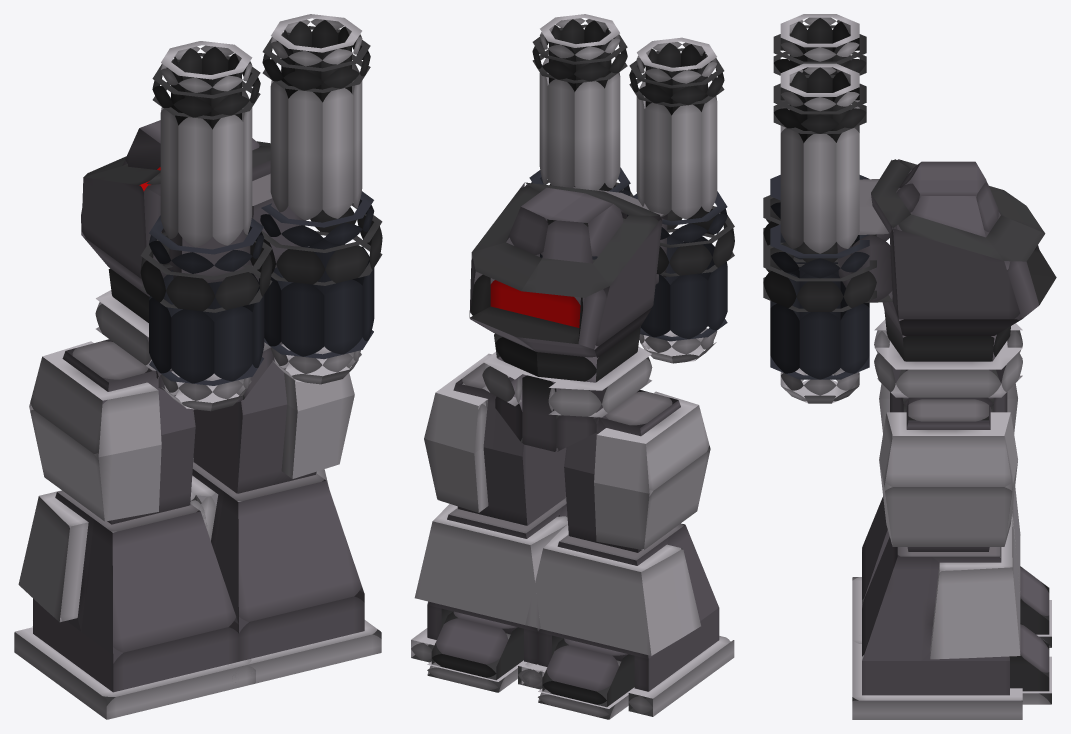
The model's file is Colossus Body.obj.
The picture shows the model from 3 angles, left to right: view 1: azimuth 30°, elevation 25°; view 2: azimuth 150°, elevation 25°; view 3: azimuth 270°, elevation 25°; orthographic projection. The views are drawn at different scales.
Visible parts, largest first — view 1: cylinder, Shin, Thigh, Body, Pelvis; view 2: cylinder, Shin, Thigh, Body, Toe, Pelvis; view 3: cylinder, Body, Shin, Thigh, Pelvis, Toe.
Boxes of the visible parts, bbox=[...] form: cylinder: bbox=[140, 14, 382, 411]; Shin: bbox=[14, 458, 381, 719]; Thigh: bbox=[29, 339, 354, 524]; Body: bbox=[81, 120, 304, 322]; Pelvis: bbox=[95, 290, 273, 402]; cylinder: bbox=[529, 14, 734, 363]; Shin: bbox=[411, 496, 734, 716]; Thigh: bbox=[424, 353, 710, 552]; Body: bbox=[469, 182, 667, 382]; Toe: bbox=[427, 611, 634, 719]; Pelvis: bbox=[482, 346, 652, 451]; cylinder: bbox=[763, 14, 876, 403]; Body: bbox=[837, 159, 1056, 361]; Shin: bbox=[852, 486, 1022, 719]; Thigh: bbox=[879, 364, 1017, 551]; Pelvis: bbox=[874, 319, 1022, 420]; Toe: bbox=[1010, 566, 1051, 704].
Size of the model in its own units: 0.679 by 1.49 by 0.6563.
1 material, 1 textured.
